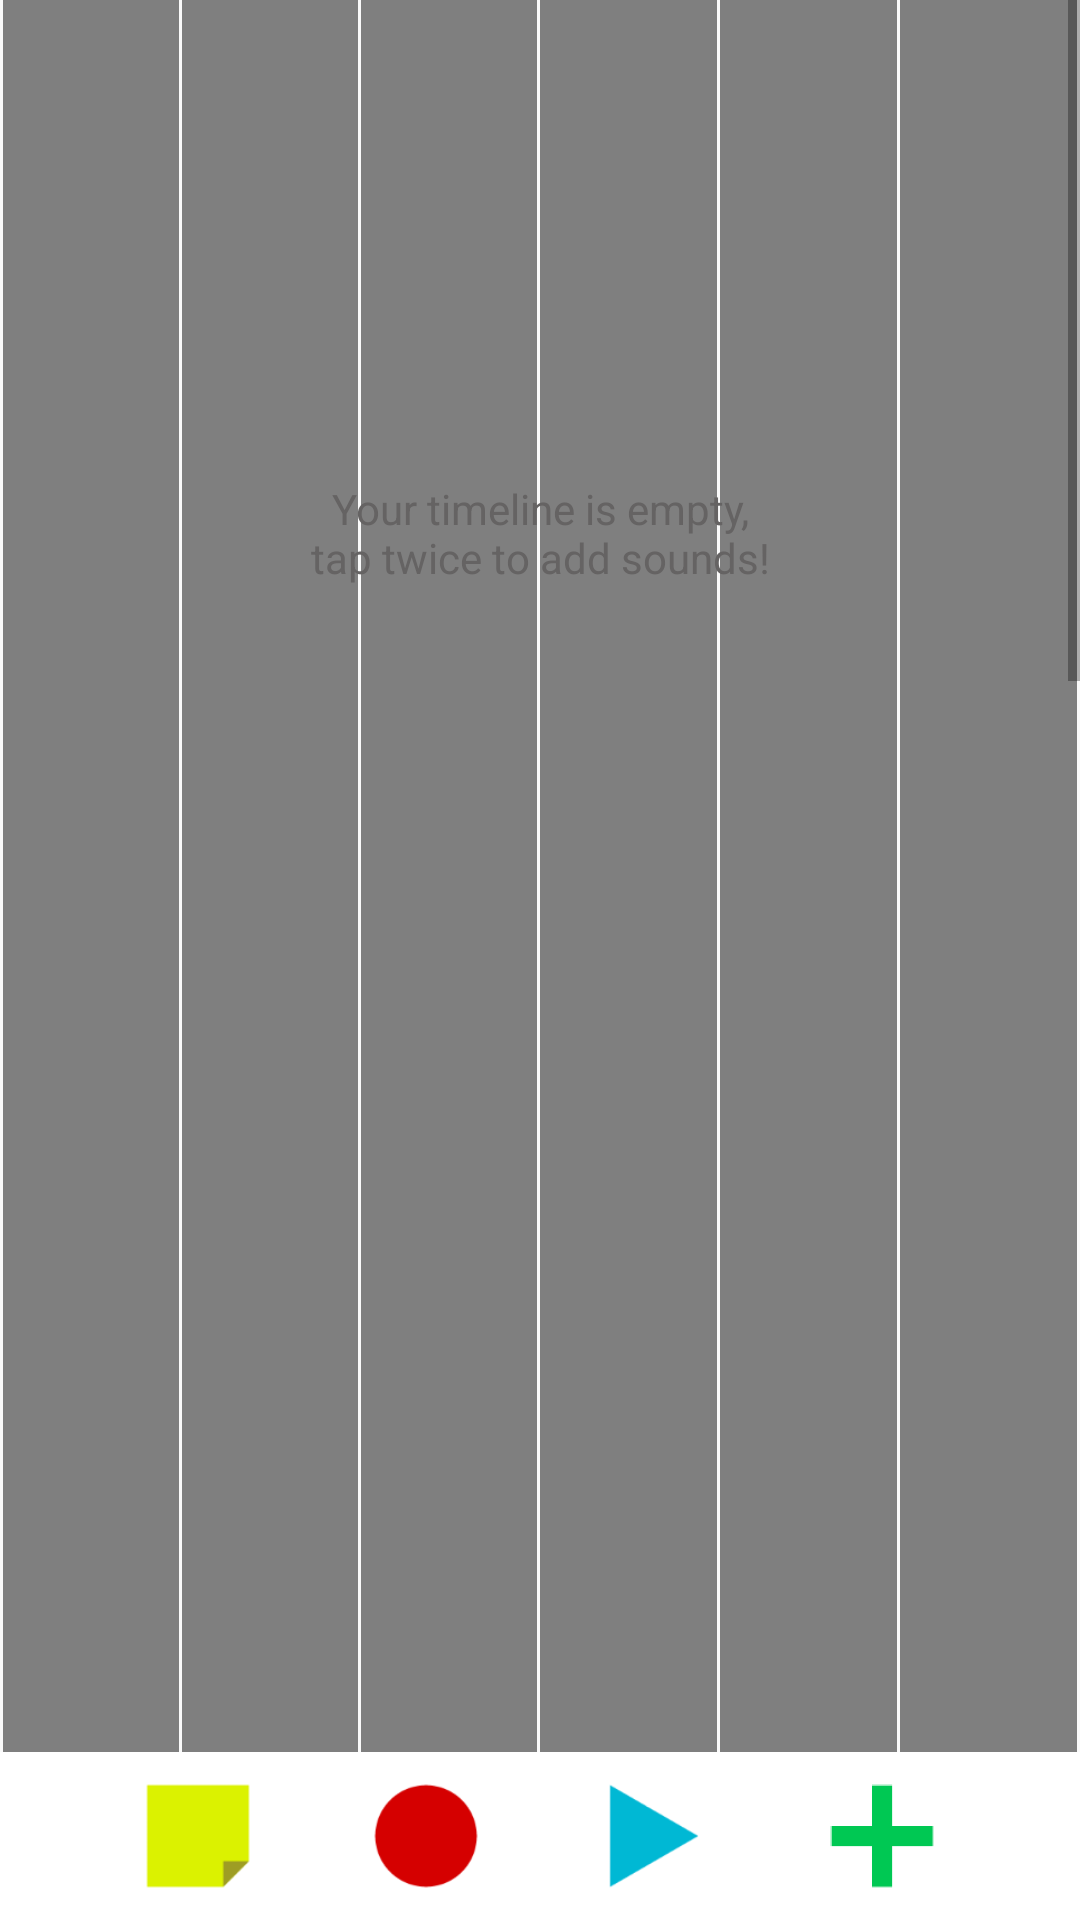

Icons on this 1080w x 1920h Android screen, each with its box as (x1, y1, x2, y2):
add: (830, 1784, 934, 1888)
doc: (146, 1784, 250, 1888)
play: (609, 1785, 698, 1887)
record: (374, 1784, 478, 1888)
